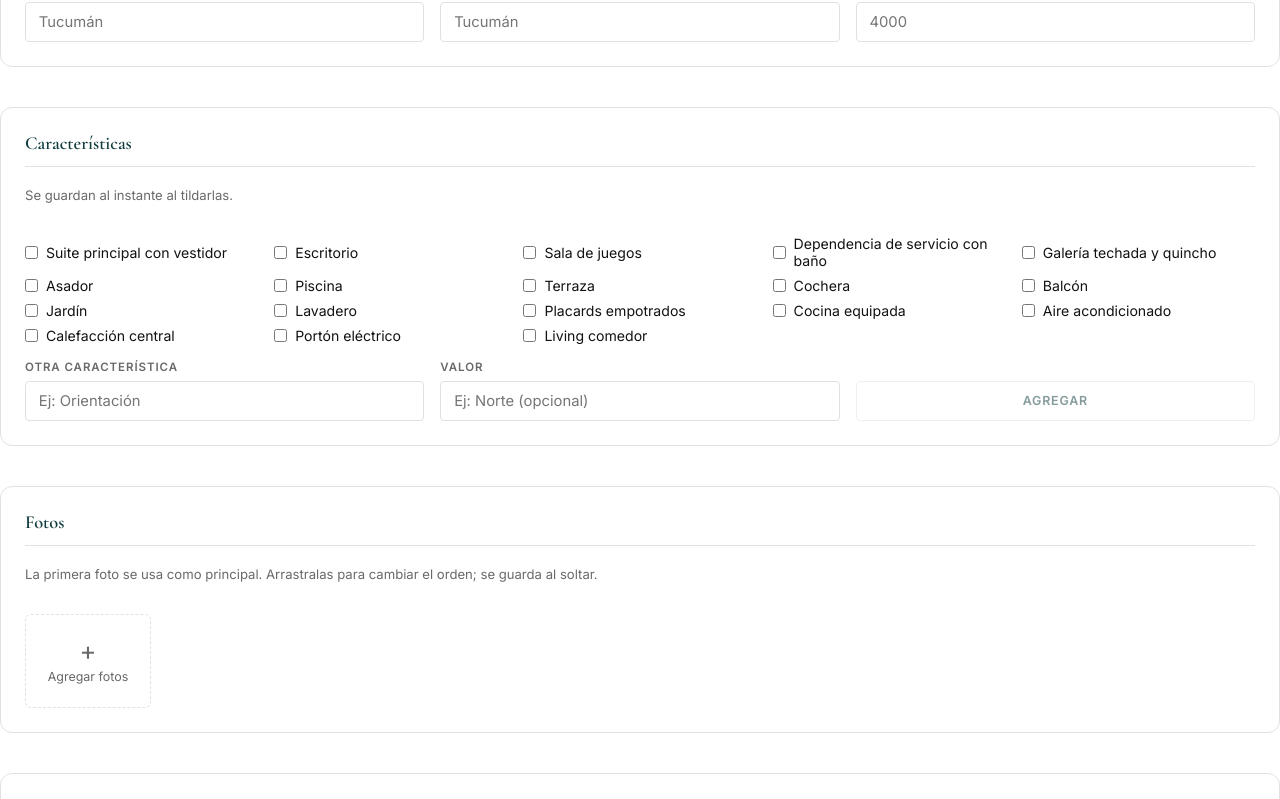
Test case: una libre sin valor se guarda como tildada
(page scrolled)
Step 1. Type "Bodega" into the field labelled "Otra característica" → (225, 401), box [25,381,424,421]
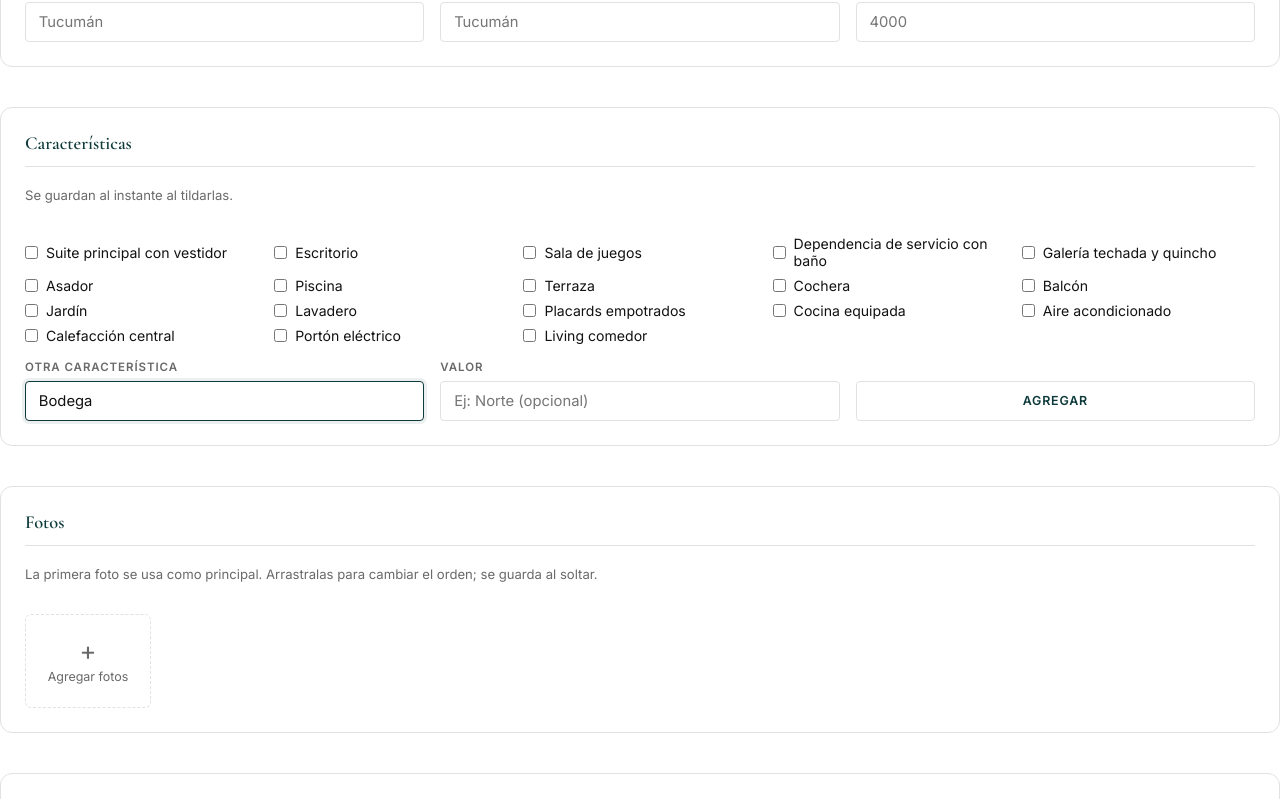
Step 2. Click the button "Agregar" → click(1055, 401), box [856,381,1255,421]
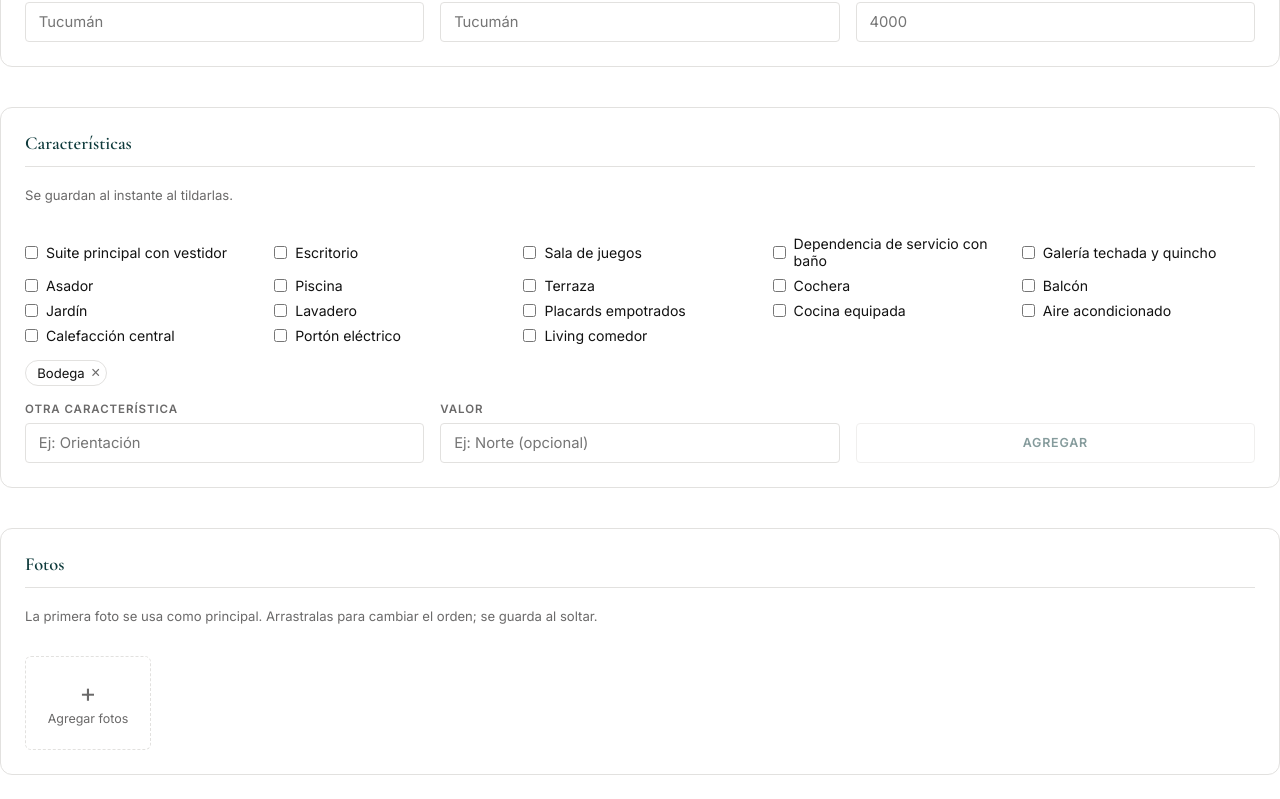
Expected: the text "Bodega" is shown, [37,365,85,381]
